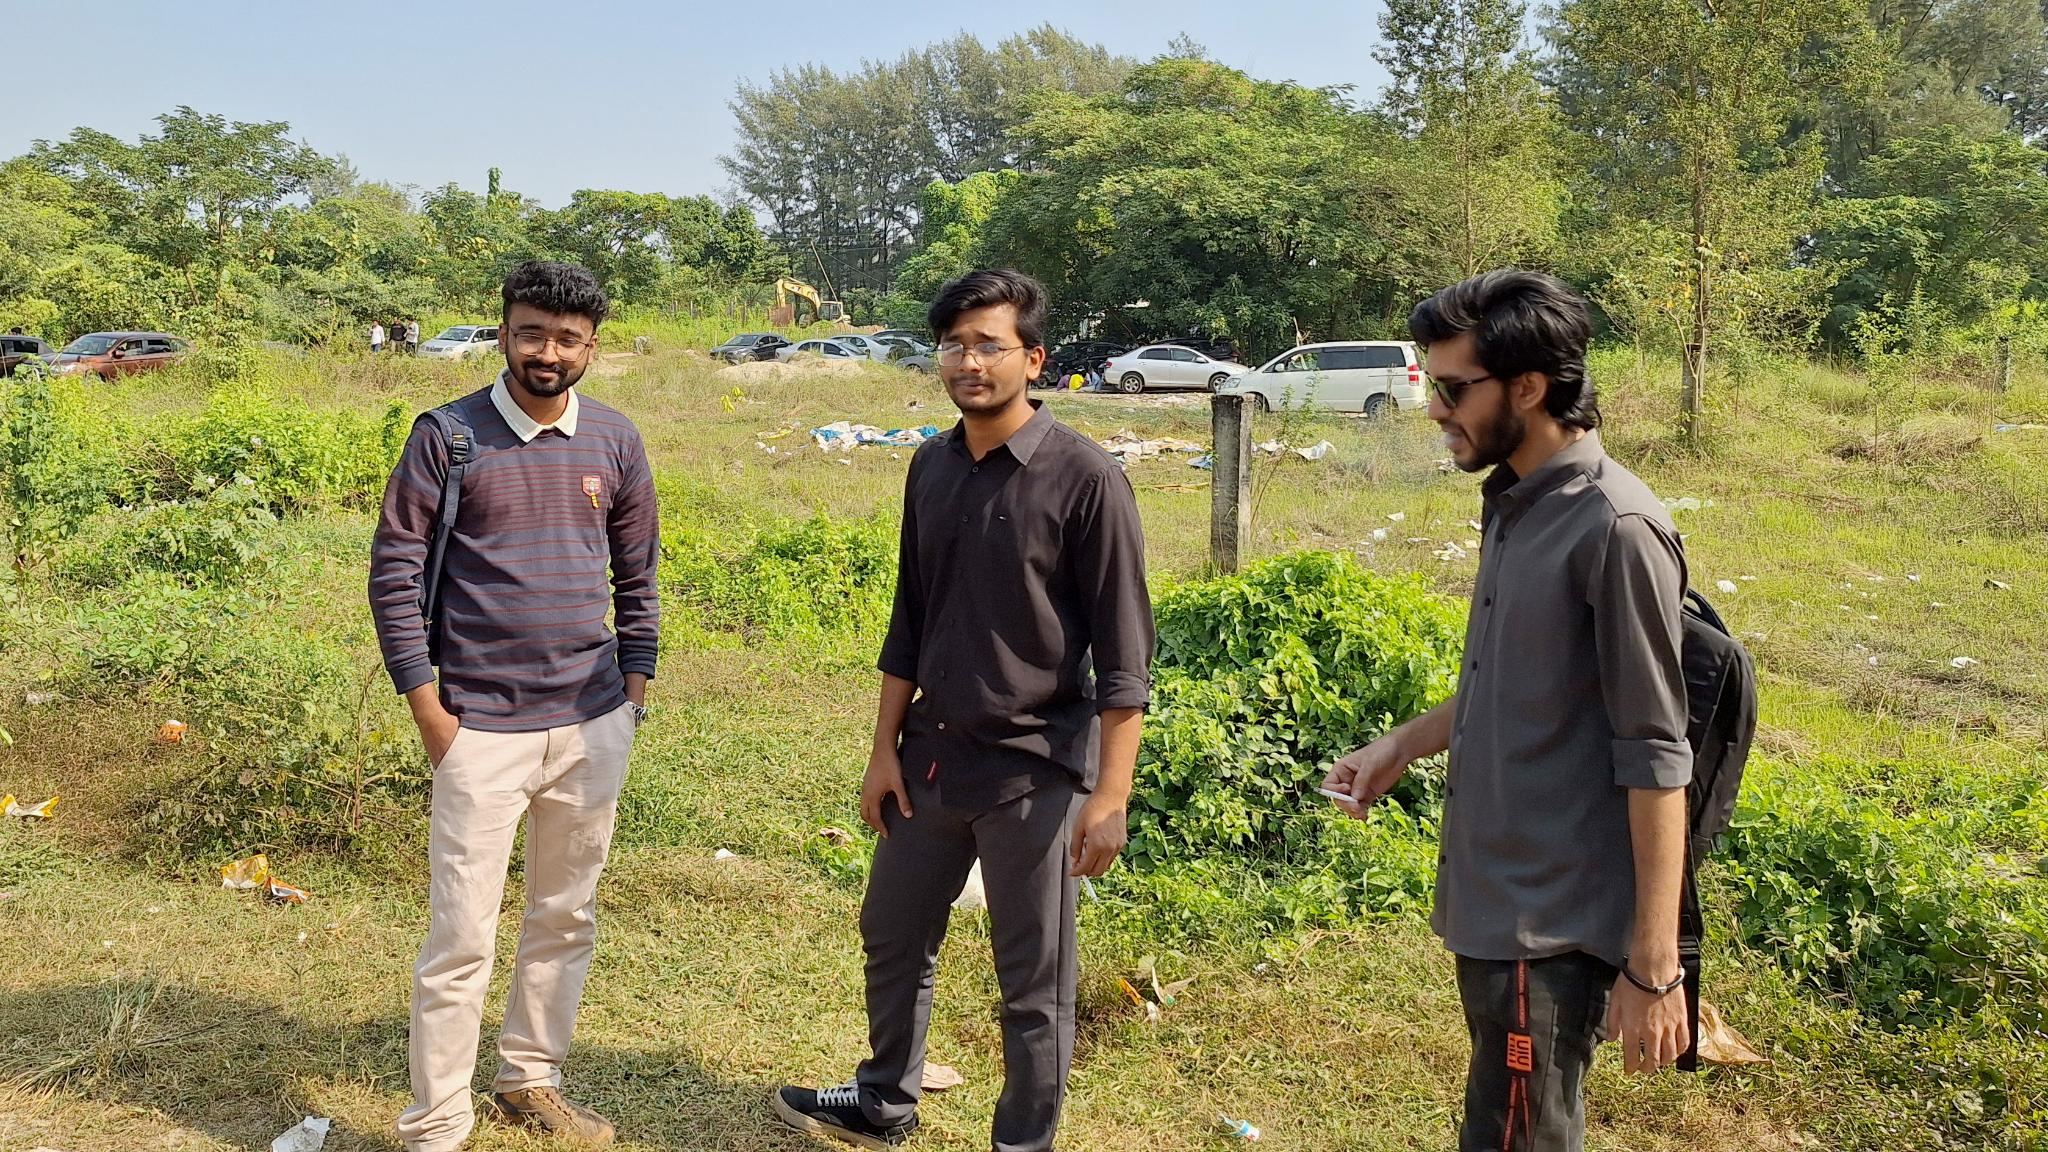cigarette: (1312, 786, 1360, 806), (1082, 873, 1099, 904)
nonSmoker: (369, 262, 660, 1152)
smoker: (1319, 269, 1757, 1152), (774, 269, 1156, 1152)
